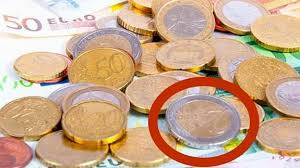eur002: (166, 94, 241, 147)
